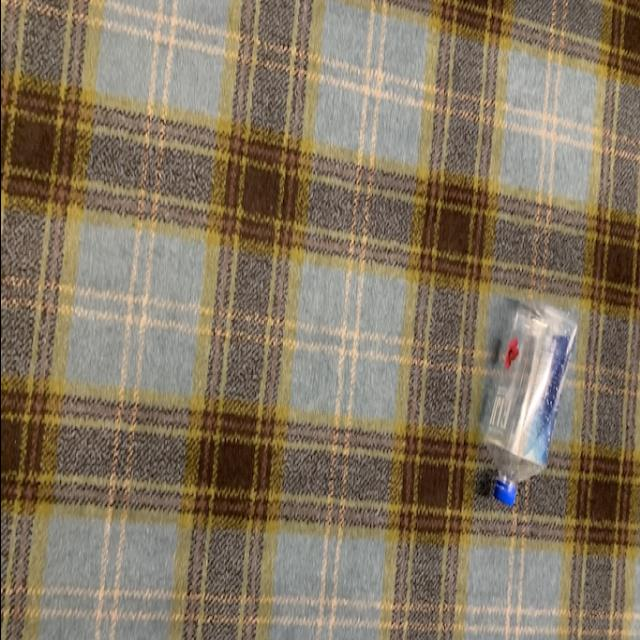PET: (476, 300, 574, 506)
